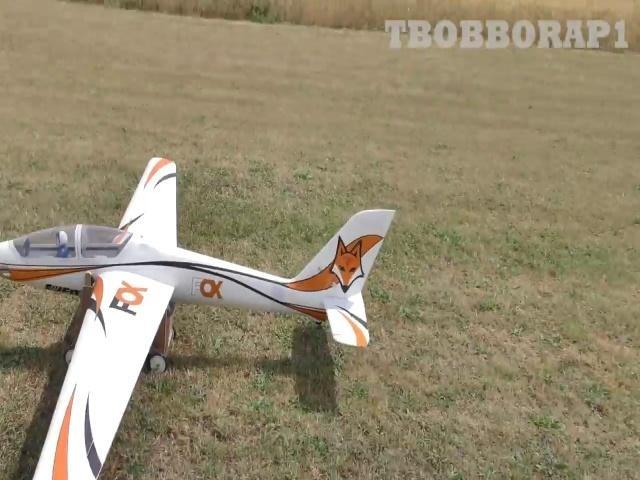Airplane: (1, 158, 395, 480)
